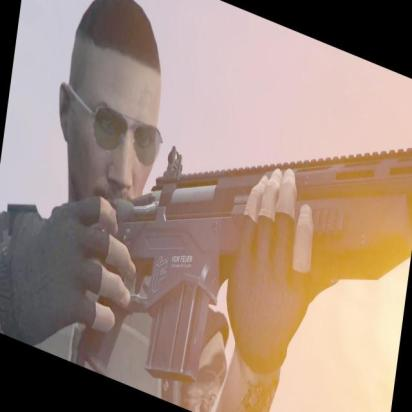Gun: (65, 140, 412, 389)
